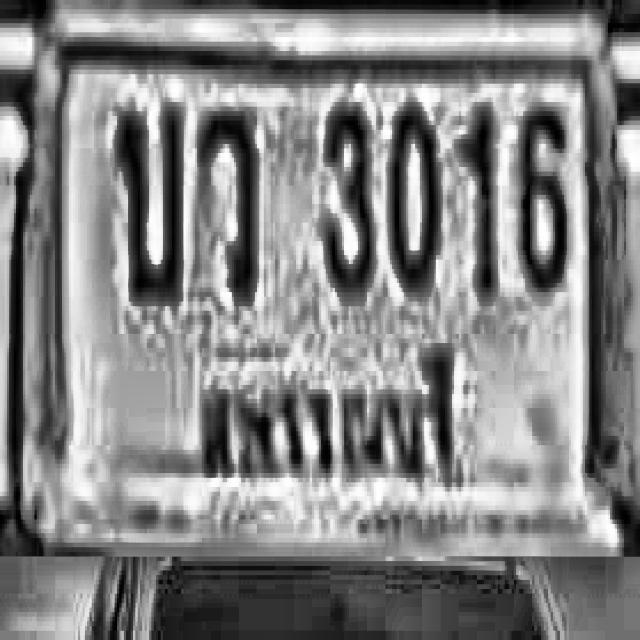license-plate: (29, 23, 628, 550)
